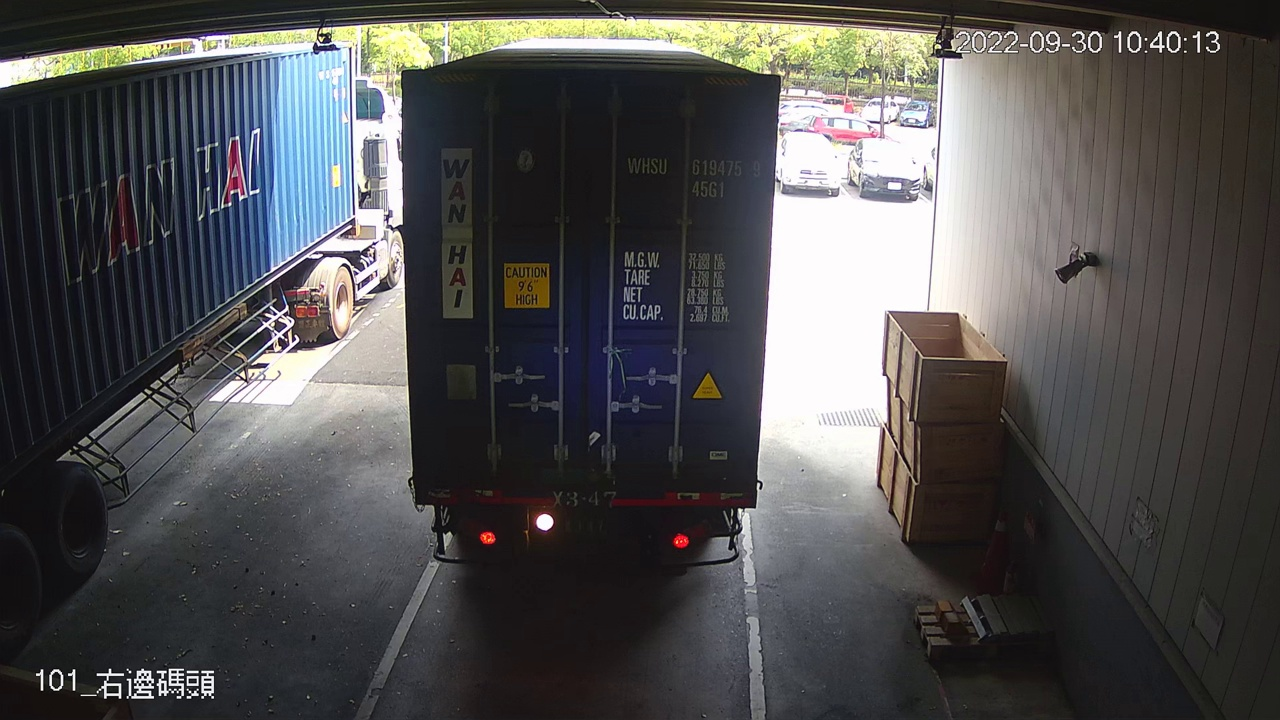container: (623, 150, 764, 204)
